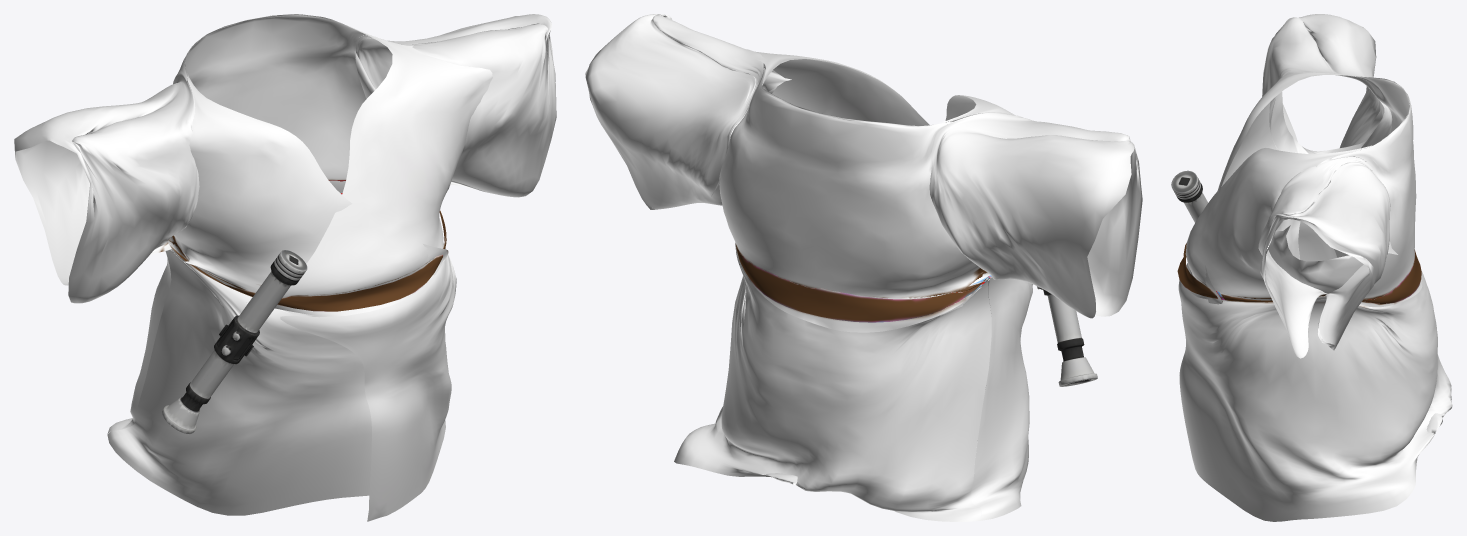
Rendered from Kimono-Snow-Brown-v2.glb.
3 renders of one model, left to right at view 1: azimuth 30°, elevation 25°; view 2: azimuth 150°, elevation 25°; view 3: azimuth 270°, elevation 25°, orthographic. The views are drawn at different scales.
Visible parts, largest first — view 1: Kimono-Snow-Brown-v2; view 2: Kimono-Snow-Brown-v2; view 3: Kimono-Snow-Brown-v2.
Boxes of the visible parts, box(x1,y1,x2,y2) form: Kimono-Snow-Brown-v2: box(14, 14, 556, 521); Kimono-Snow-Brown-v2: box(585, 14, 1142, 521); Kimono-Snow-Brown-v2: box(1171, 14, 1452, 521).
Size of the model in its own units: 0.6682 by 0.5166 by 0.3535.
3 materials, 3 textured.
